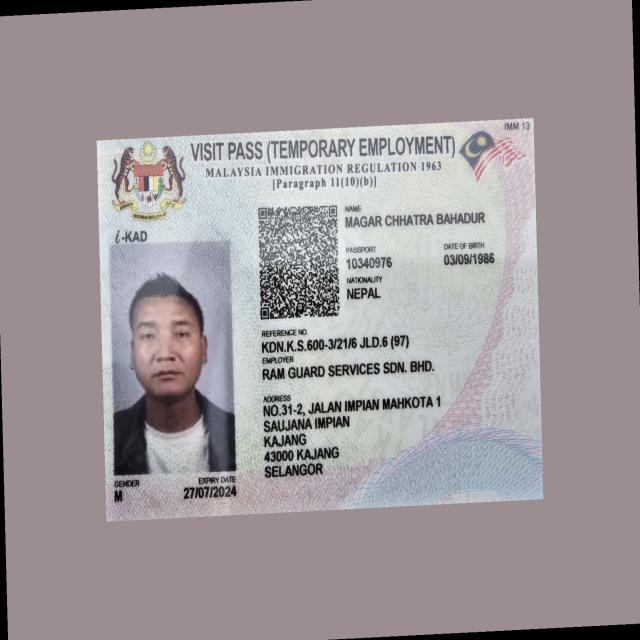ikad-temp: (96, 118, 543, 518)
